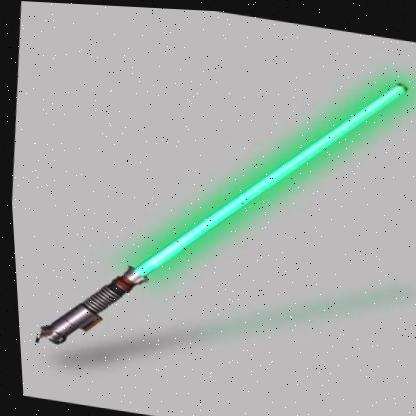lightsaber: (38, 79, 410, 349)
